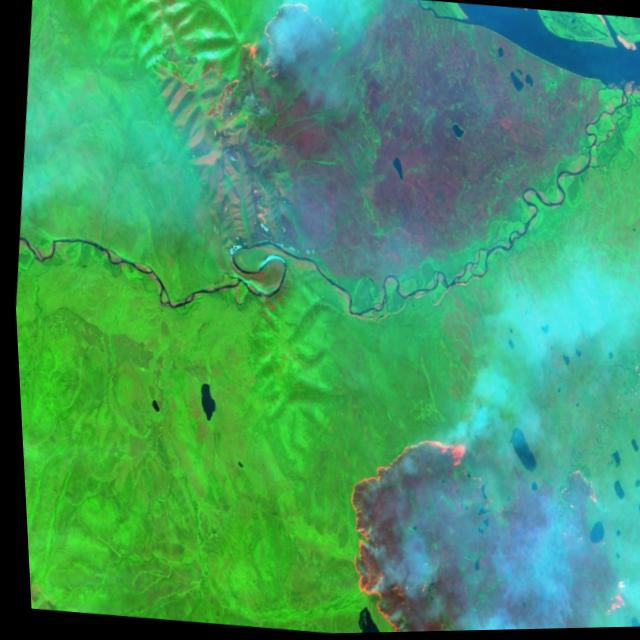fire: (322, 416, 640, 635), (188, 0, 296, 237)
